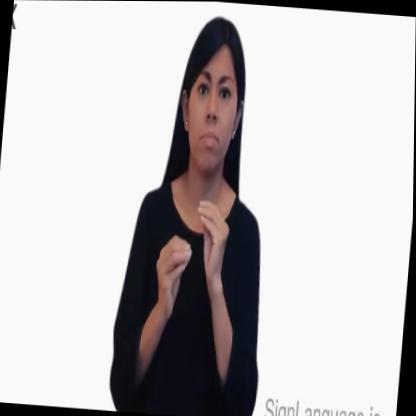Fix: (106, 9, 289, 416)
